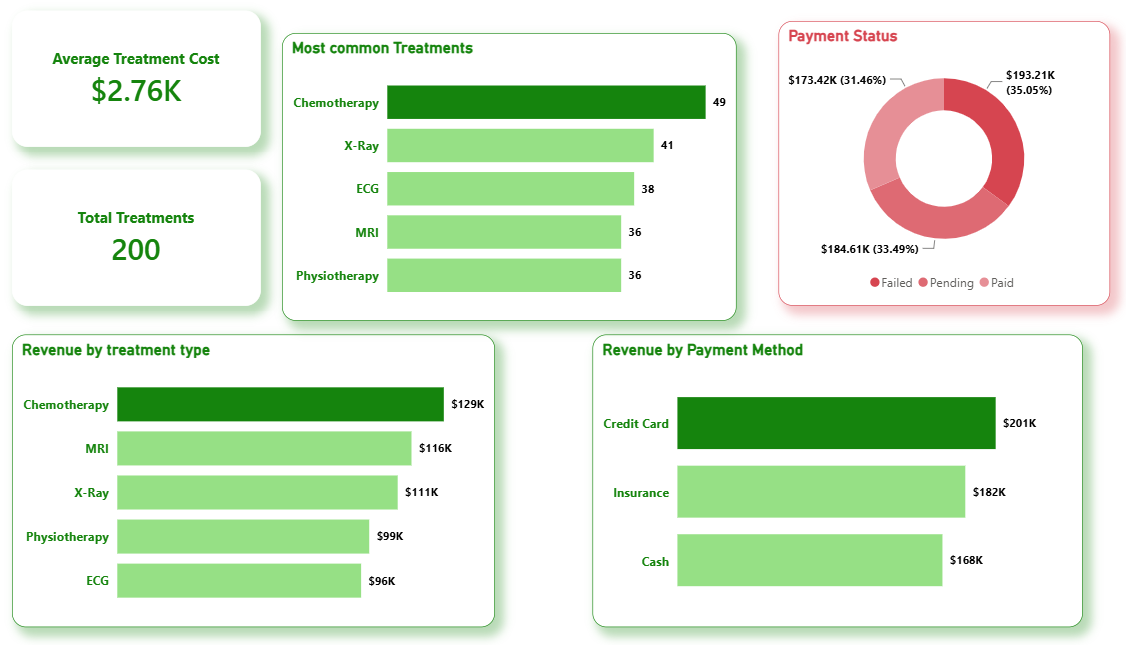

What the dashboard file says about the page in this screenshot:
{"tool":"powerbi","page":{"name":"FINANCIAL & OPERATIONAL ANALYTICS","canvas":[1280,720],"ordinal":2},"visuals":[{"type":"clusteredBarChart","title":"Revenue by Payment Method","fields":{"Category":["billing_cleaned.payment_method"],"Y":["billing_cleaned.Total Revenue"]},"box":[684.9,374,529.5,315.7],"z":0},{"type":"donutChart","title":"Payment Status","fields":{"Category":["billing_cleaned.payment_status"],"Y":["billing_cleaned.Total Revenue"]},"box":[885.7,35.6,357.8,307.7],"z":1000},{"type":"clusteredBarChart","title":"Revenue by treatment type","fields":{"Y":["billing_cleaned.Total Revenue"],"Category":["treatments_cleaned.treatment_type"]},"box":[58.3,374,521.4,315.7],"z":2000},{"type":"cardVisual","fields":{"Data":["treatments_cleaned.Average Treatment Cost"]},"box":[58.3,24.3,268.8,147.3],"z":3000},{"type":"clusteredBarChart","title":"Most common Treatments","fields":{"Y":["treatments_cleaned.Treatment Count"],"Category":["treatments_cleaned.treatment_type"]},"box":[349.8,48.6,490.6,310.9],"z":5000},{"type":"cardVisual","fields":{"Data":["treatments_cleaned.Treatment Count"]},"box":[58.3,195.9,268.8,147.3],"z":6000}]}

Visuals, with their boxes in screenshot pixels (x1, y1, x2, y2), scaled from the page's 1280x720 canvas onto the 1126x645 screenshot:
"Revenue by Payment Method" clusteredBarChart: <region>602, 335, 1068, 618</region>
"Payment Status" donutChart: <region>779, 32, 1094, 308</region>
"Revenue by treatment type" clusteredBarChart: <region>51, 335, 510, 618</region>
cardVisual - treatments_cleaned.Average Treatment Cost: <region>51, 22, 288, 154</region>
"Most common Treatments" clusteredBarChart: <region>308, 44, 739, 322</region>
cardVisual - treatments_cleaned.Treatment Count: <region>51, 175, 288, 307</region>
